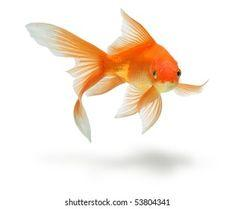goldfish: (40, 25, 206, 134)
